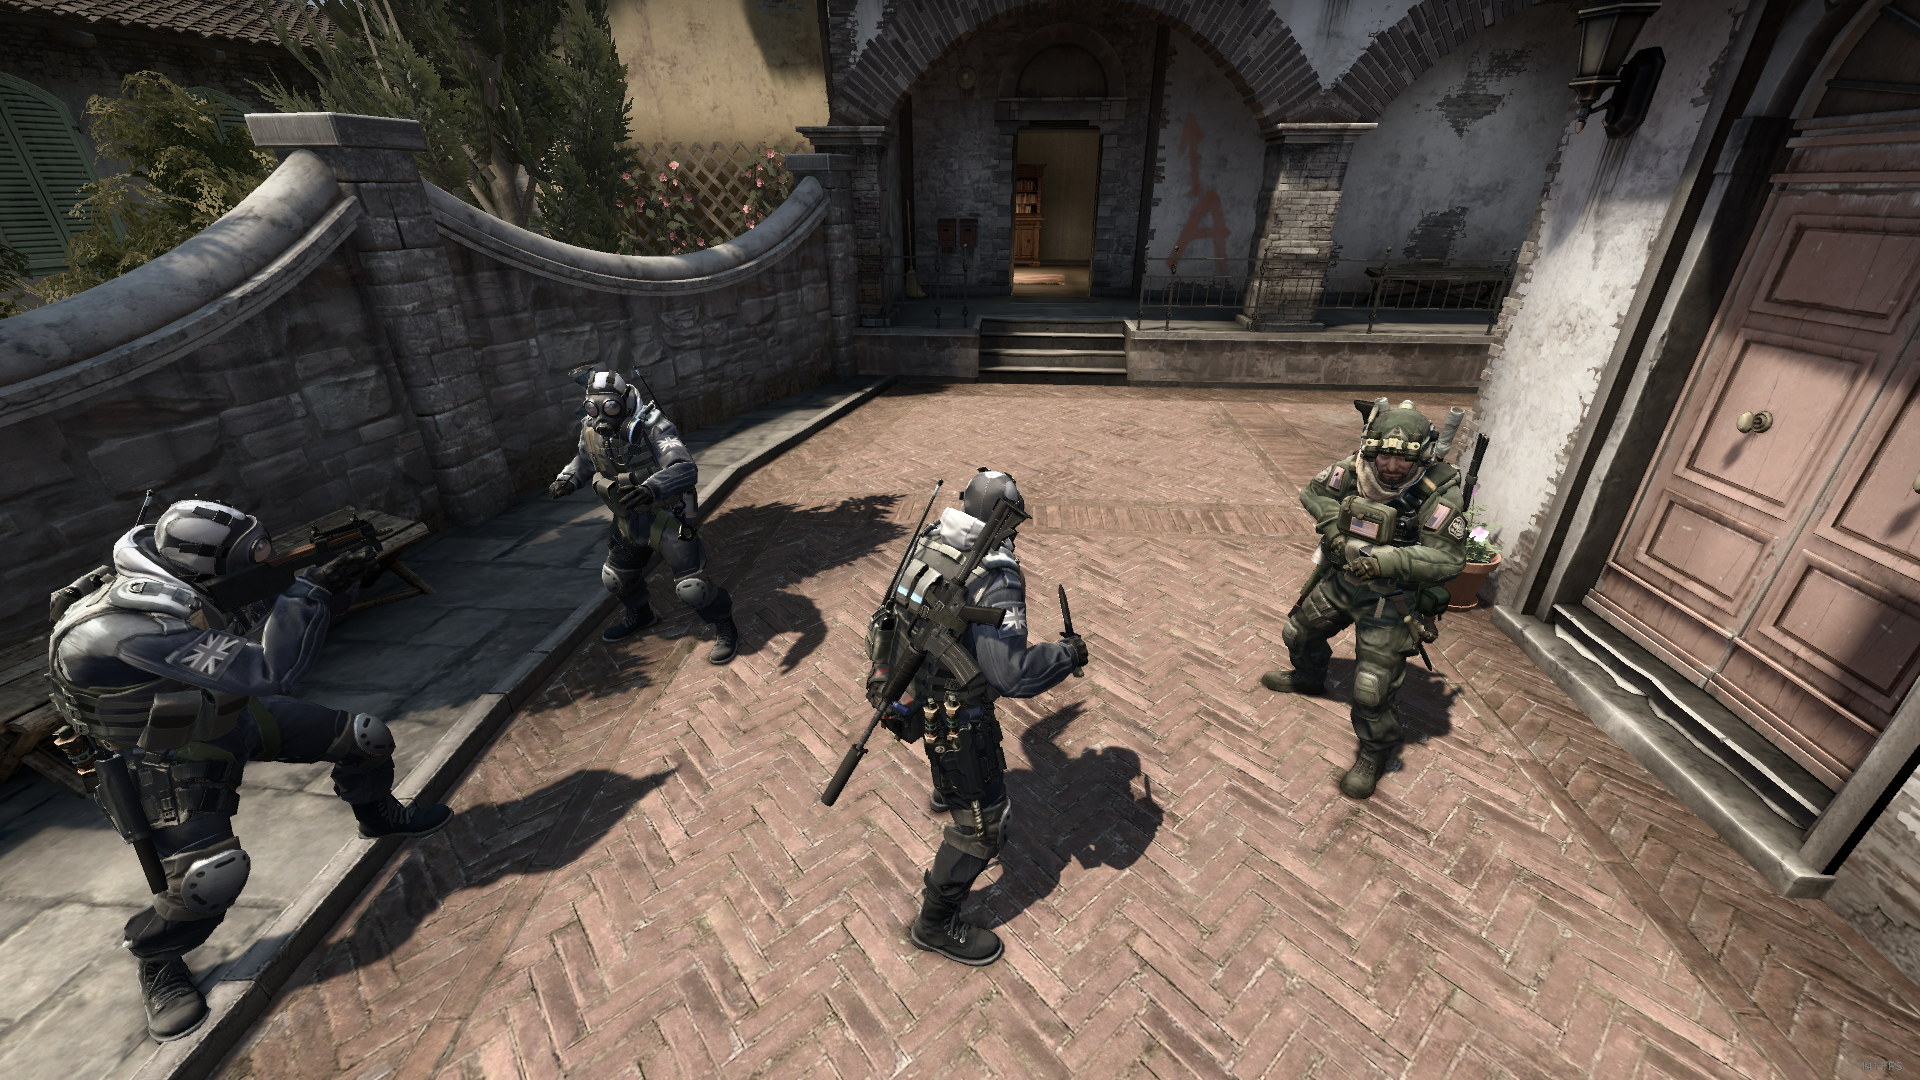ct: (47, 500, 452, 1038), (868, 471, 1092, 964), (550, 371, 737, 676)
